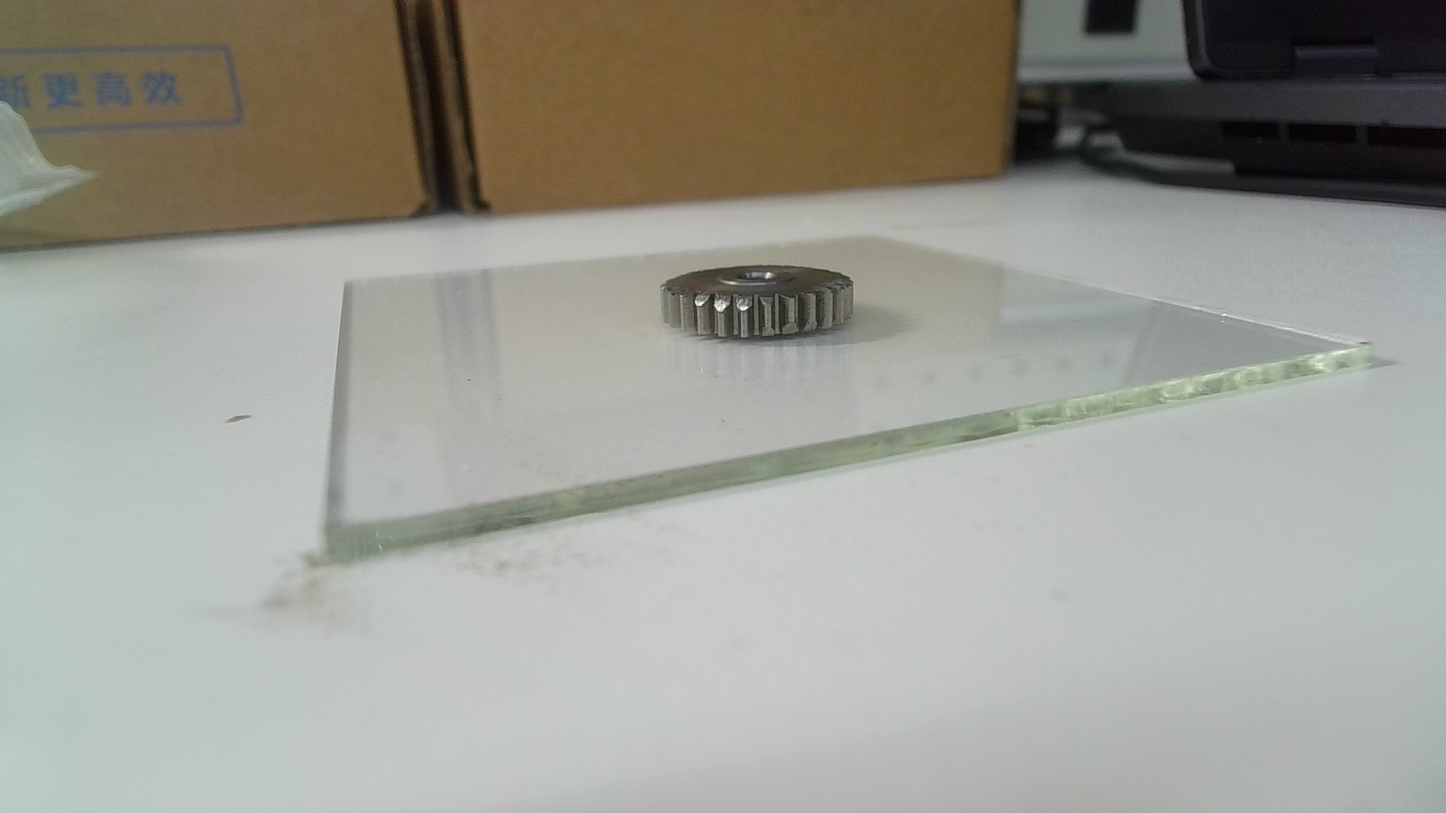gear: (656, 261, 860, 341)
